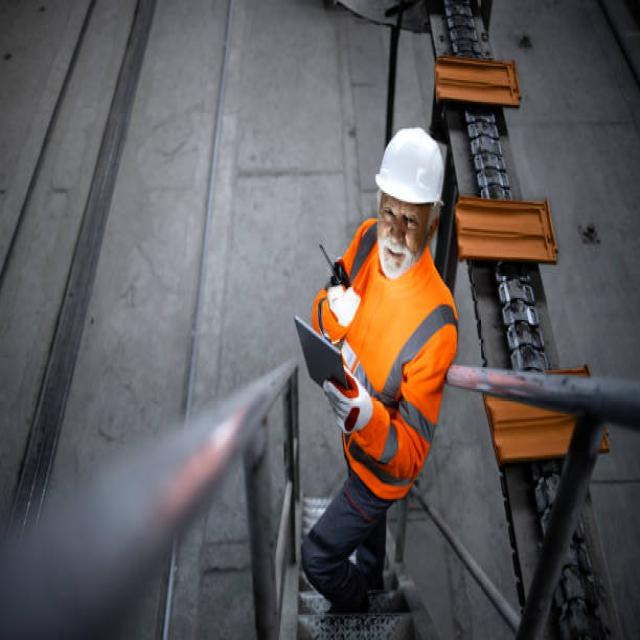Gloves: (323, 355, 377, 443), (320, 266, 360, 338)
Vest: (311, 217, 461, 506)
helmet: (373, 127, 448, 207)
person: (299, 124, 460, 616)
